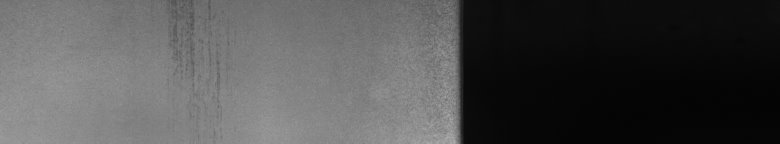ka: (172, 4, 223, 88)
